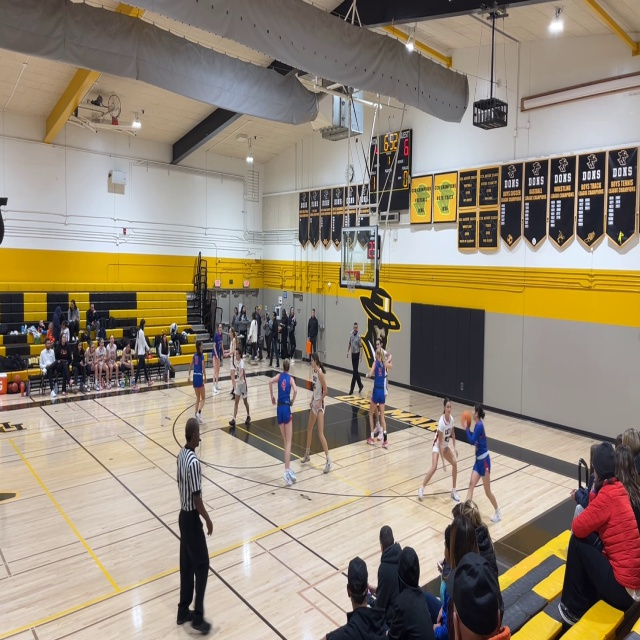Basketball: (461, 411, 471, 429)
